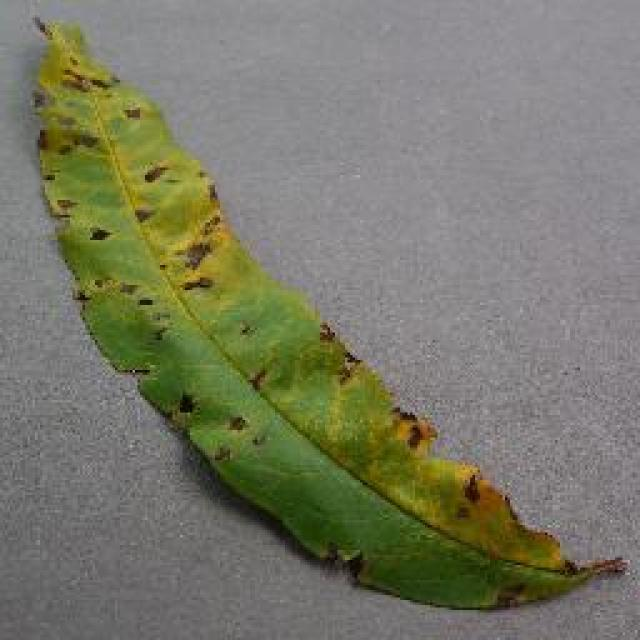Peach_Bacterial_Spot: (52, 76, 485, 556)
